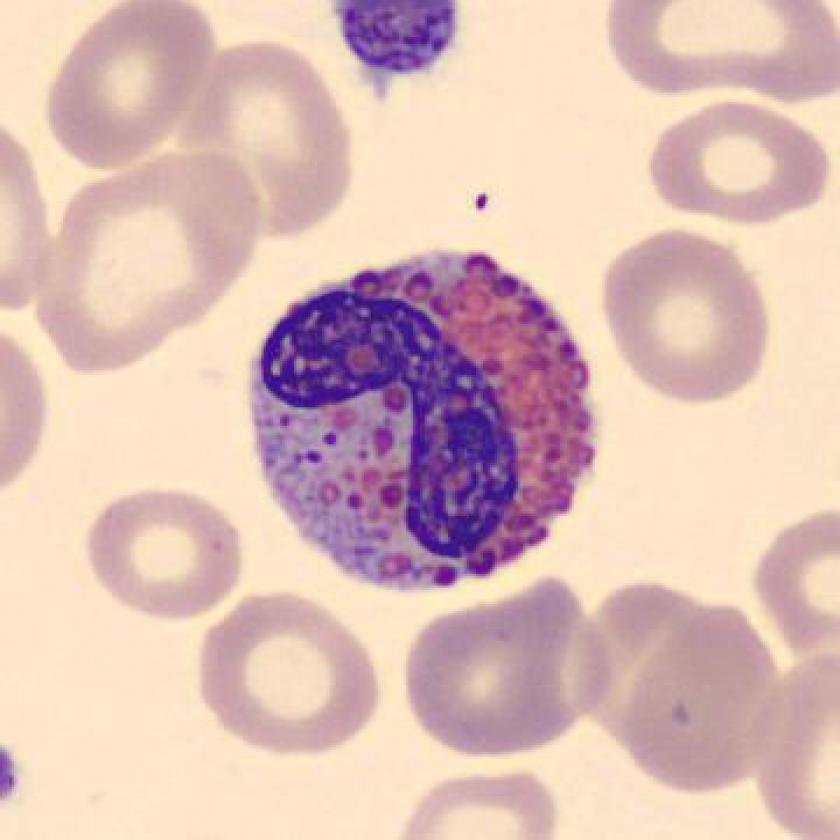eosinophil: (234, 239, 608, 605)
